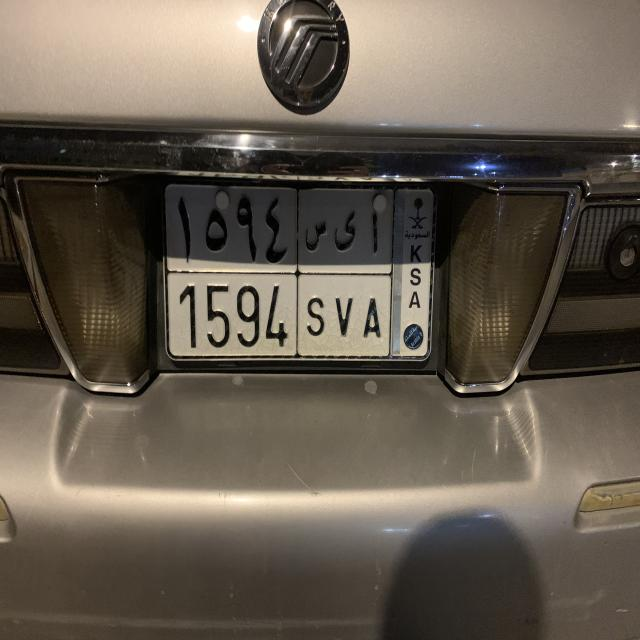license_plate: (160, 176, 437, 370)
